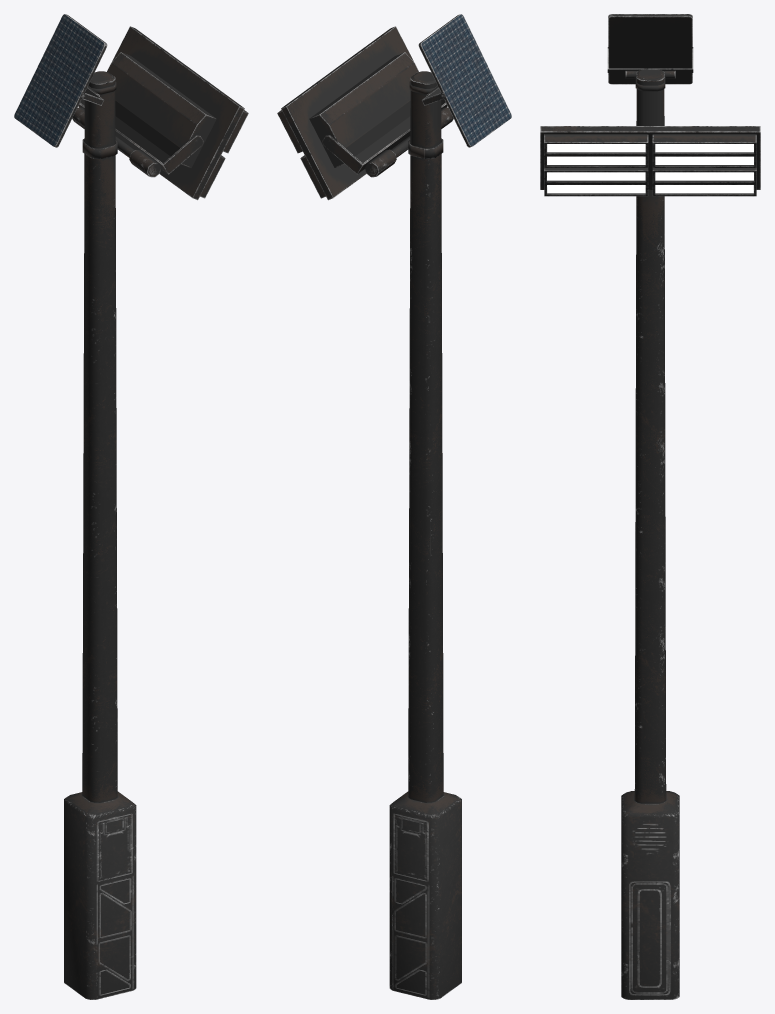
File: SM_NeonRaceReflctor.fbx
The picture shows the model from 3 angles, left to right: view 1: azimuth 30°, elevation 25°; view 2: azimuth 150°, elevation 25°; view 3: azimuth 270°, elevation 25°; orthographic projection.
Parts seen in each view (by area): view 1: SM_NeonRaceReflctor_LOD0; view 2: SM_NeonRaceReflctor_LOD0; view 3: SM_NeonRaceReflctor_LOD0.
Boxes of the visible parts, box(x1,y1,x2,y2) form: SM_NeonRaceReflctor_LOD0: box(14, 14, 248, 999); SM_NeonRaceReflctor_LOD0: box(277, 14, 511, 999); SM_NeonRaceReflctor_LOD0: box(540, 14, 760, 999).
Size of the model in its own units: 93.51 by 109 by 529.
Materials: 1 (1 with a texture image).
